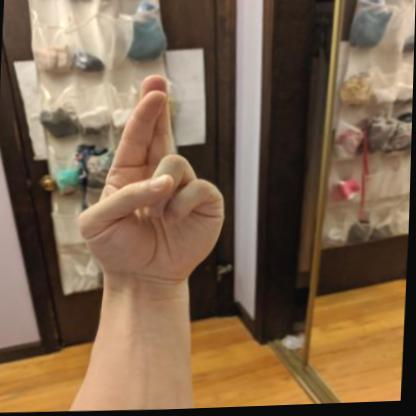R: (74, 68, 238, 291)
